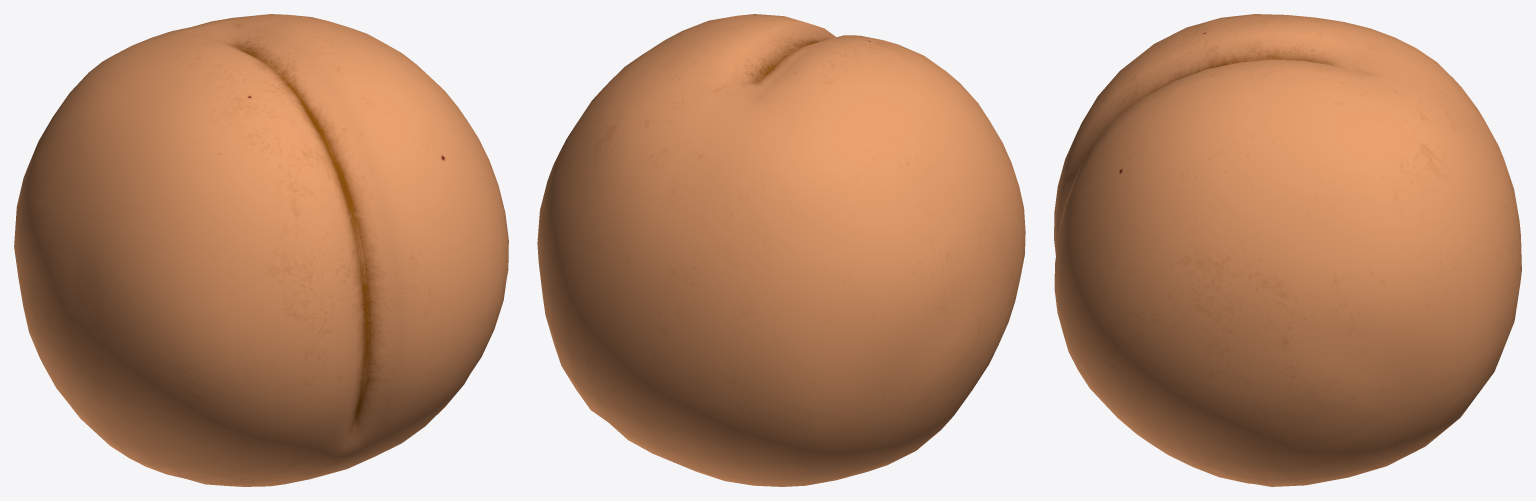
Rendered from AssteroidMesh01.glb.
3 views of the same model, side by side, from view 1: azimuth 30°, elevation 25°; view 2: azimuth 150°, elevation 25°; view 3: azimuth 270°, elevation 25° (orthographic).
Visible parts, largest first — view 1: Assteroid_Low; view 2: Assteroid_Low; view 3: Assteroid_Low.
Part boxes in pixels (x1,y1,x2,y2): Assteroid_Low: (14,14,508,486); Assteroid_Low: (537,14,1025,486); Assteroid_Low: (1054,14,1521,486).
Size of the model in its own units: 311 by 302 by 307.
1 material, 1 textured.
